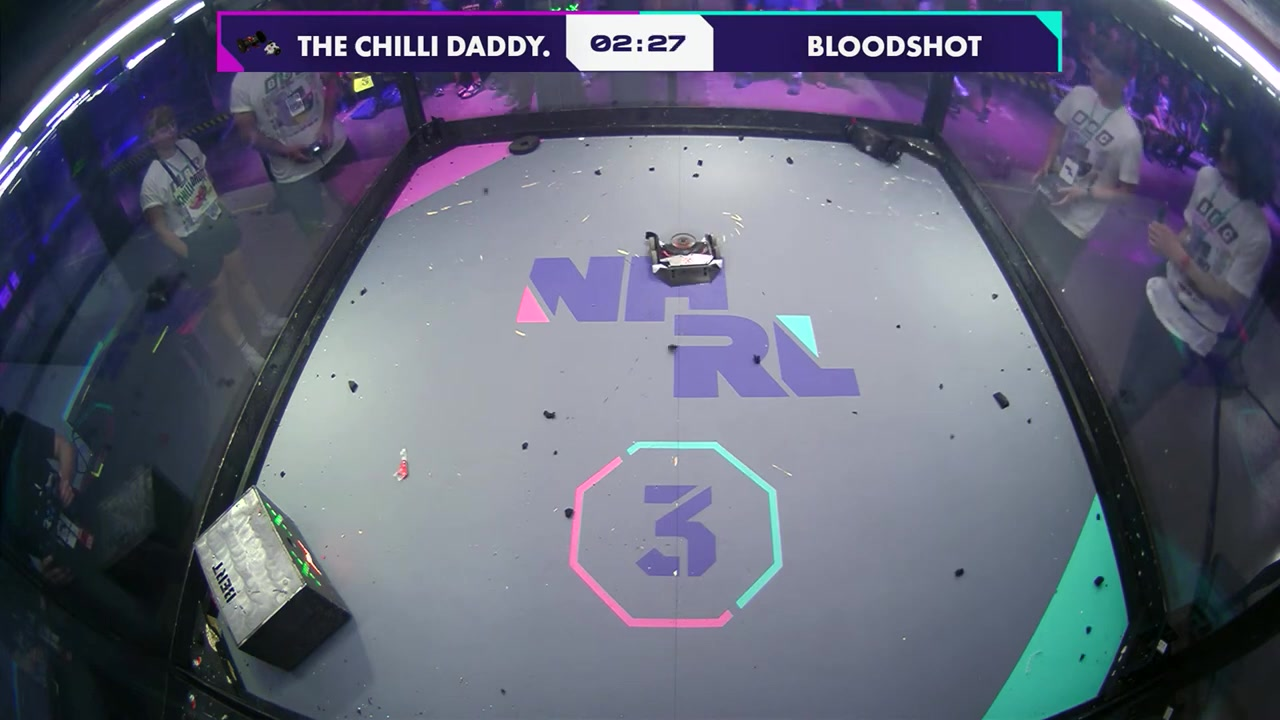combatbot: (643, 231, 724, 286), (842, 116, 906, 168)
debris: (506, 135, 543, 157), (393, 452, 411, 482), (991, 390, 1012, 409)
housebot: (192, 489, 352, 673)
